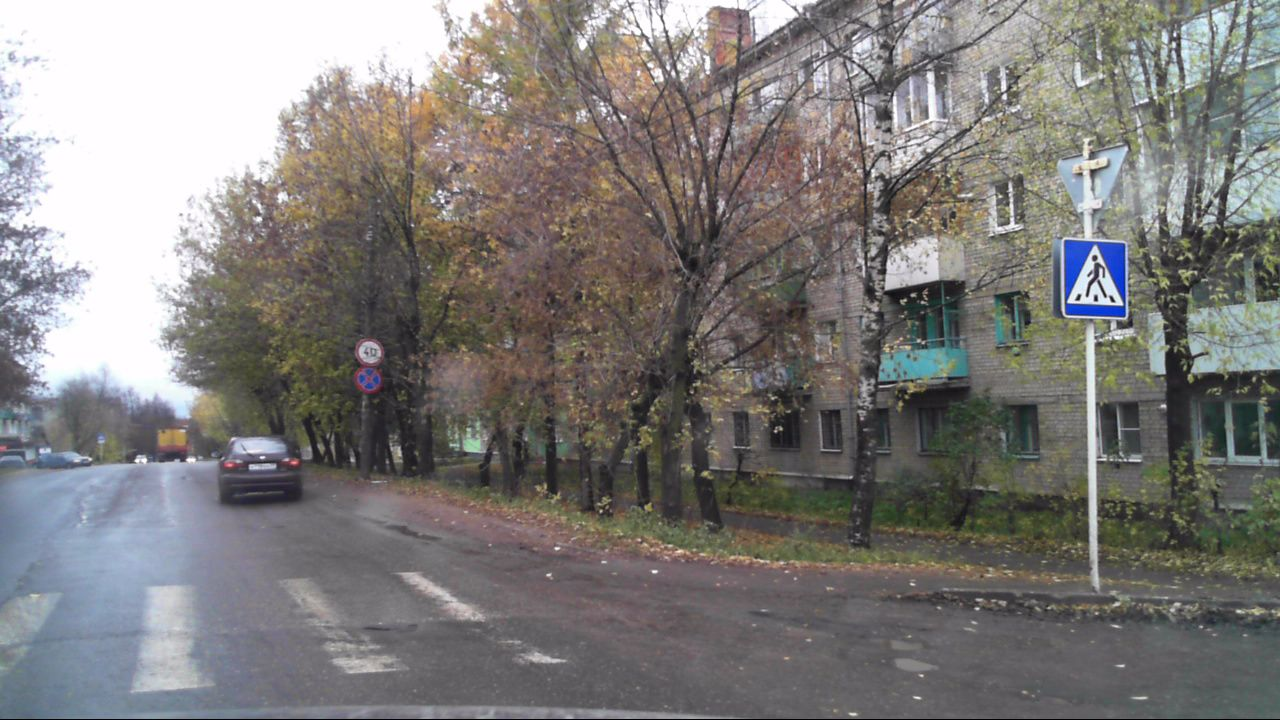No Parking: (353, 364, 382, 394)
speed_warning_40: (355, 338, 386, 366)
